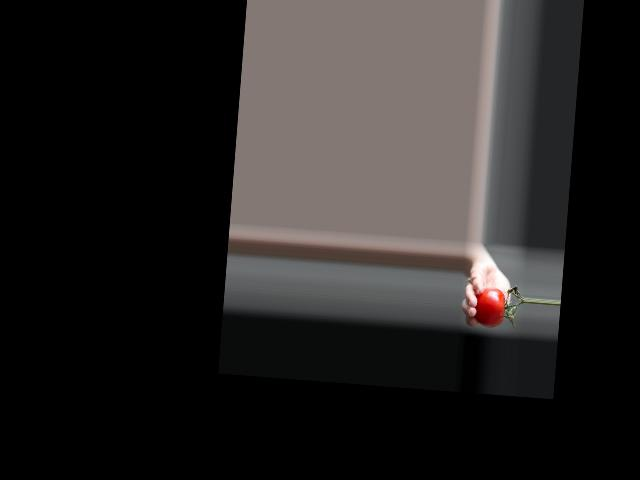tomato: (473, 286, 507, 328)
